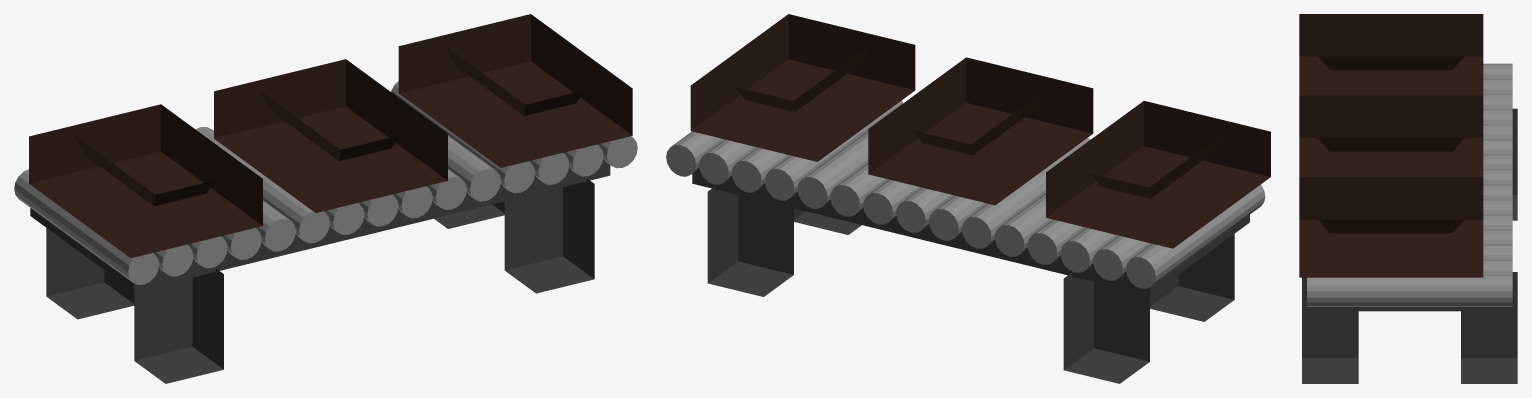
The model's file is conveyorBeltTripleEmptyMold.fbx.
3 renders of one model, left to right at view 1: azimuth 30°, elevation 25°; view 2: azimuth 150°, elevation 25°; view 3: azimuth 270°, elevation 25°, orthographic. The views are drawn at different scales.
Visible parts, largest first — view 1: Conveyor Belt Triple Empty Mold; view 2: Conveyor Belt Triple Empty Mold; view 3: Conveyor Belt Triple Empty Mold.
Part boxes in pixels (box(x1,y1,x2,y2)): Conveyor Belt Triple Empty Mold: box(14, 14, 637, 383); Conveyor Belt Triple Empty Mold: box(666, 14, 1270, 383); Conveyor Belt Triple Empty Mold: box(1299, 14, 1517, 383).
Size of the model in its own units: 194 by 79.54 by 66.33.
